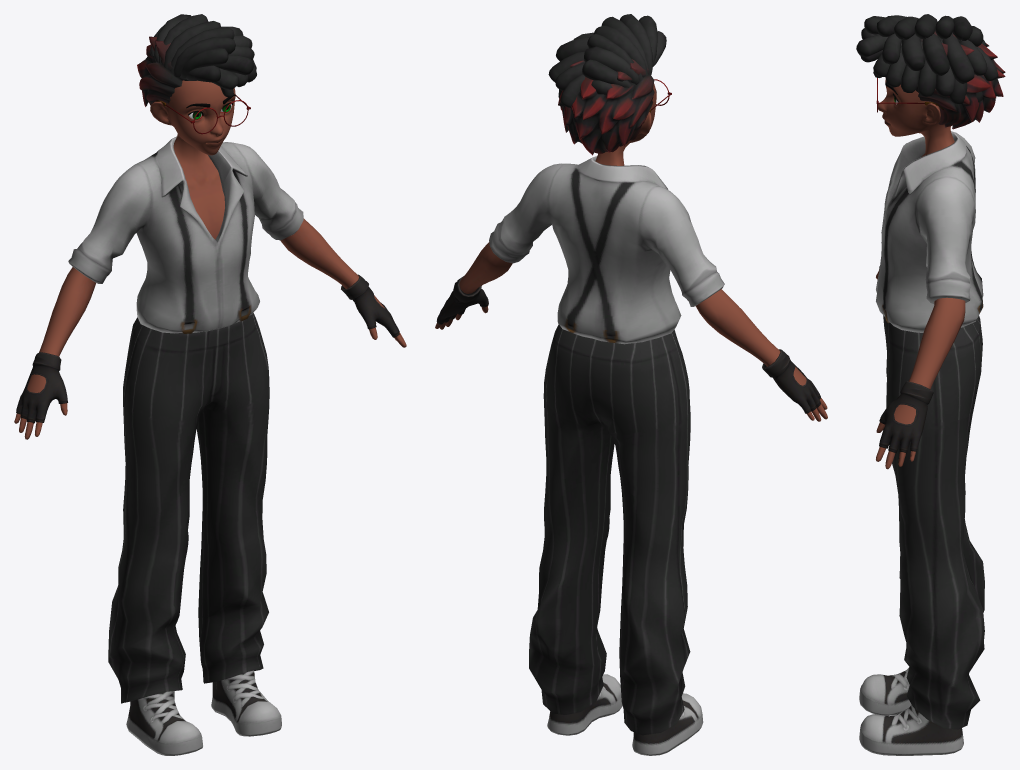
The model's file is StaffTeenagerGirl_Mesh.obj.
3 views of the same model, side by side, from view 1: azimuth 30°, elevation 25°; view 2: azimuth 150°, elevation 25°; view 3: azimuth 270°, elevation 25° (orthographic).
Visible parts, largest first — view 1: StaffTeenagerGirl_Mesh_0; view 2: StaffTeenagerGirl_Mesh_0; view 3: StaffTeenagerGirl_Mesh_0.
Part boxes in pixels (box(x1,y1,x2,y2)): StaffTeenagerGirl_Mesh_0: box(14, 14, 406, 755); StaffTeenagerGirl_Mesh_0: box(435, 14, 827, 755); StaffTeenagerGirl_Mesh_0: box(856, 14, 1005, 755).
Bounding box in the file's own units: 1.06 × 1.86 × 0.3523.
Materials: 1 (1 with a texture image).
